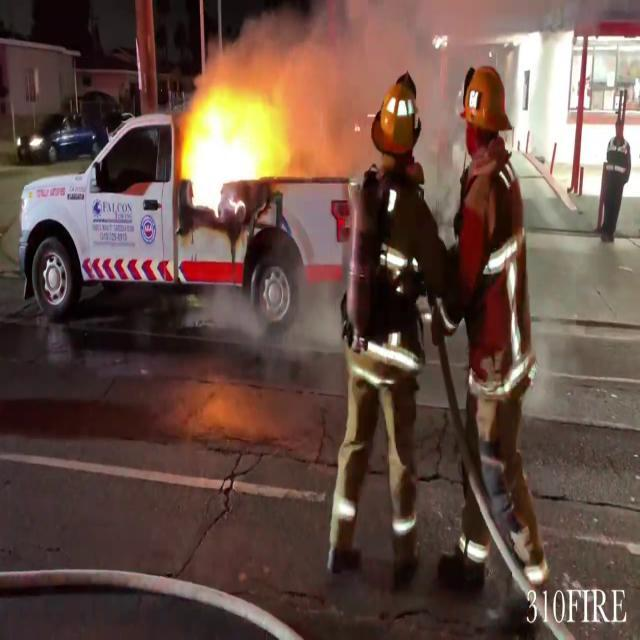Fire: (175, 78, 291, 216)
Smoke: (236, 0, 487, 150)
